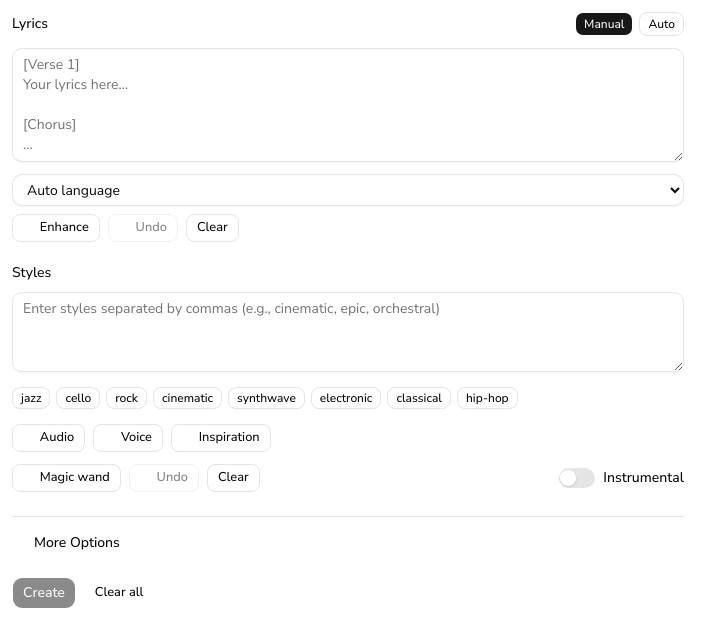
AdvancedCreationForm › keeps Create disabled until there is a style or lyrics
The width and height of the screenshot is (704, 626).
Expected: the button "Create" is disabled, [12,577,76,609]
Type "rock" into the text box labelled "Styles" at x=348, y=332, box [12,292,684,372]
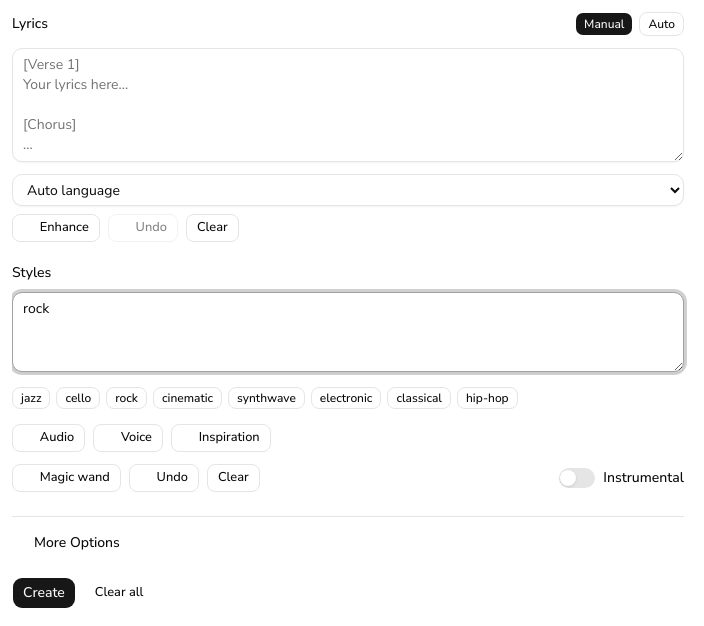
Result: the button "Create" is enabled at [12,577,76,609]
